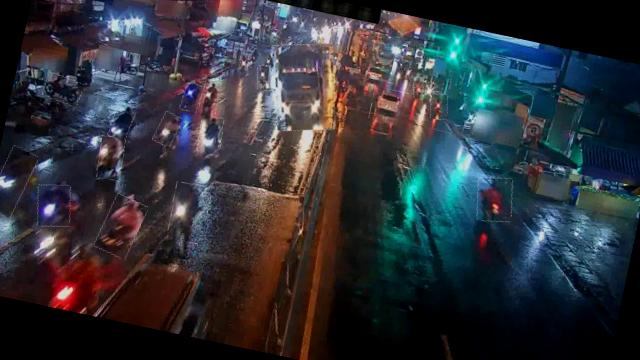Bike: (95, 192, 147, 259), (166, 180, 213, 244), (0, 144, 36, 220), (472, 173, 518, 225), (32, 180, 76, 230), (95, 134, 127, 182), (42, 72, 85, 105), (196, 114, 226, 156), (108, 100, 136, 140), (153, 110, 181, 148), (198, 80, 223, 120), (180, 81, 203, 114), (428, 92, 450, 122), (253, 64, 274, 93), (411, 76, 426, 100), (422, 82, 434, 103), (239, 53, 251, 71)
Car: (368, 86, 414, 126)
Truck: (263, 36, 347, 138)
